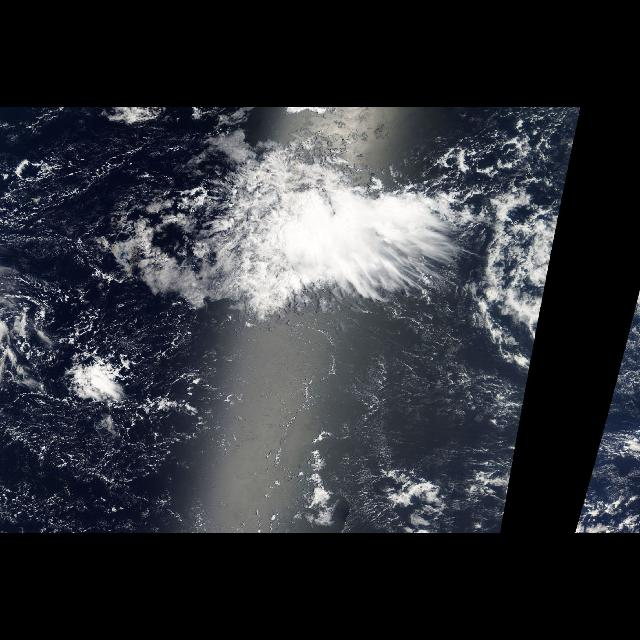Gravel: (0, 277, 214, 533)
Sugar: (7, 382, 227, 524), (347, 316, 519, 488)
